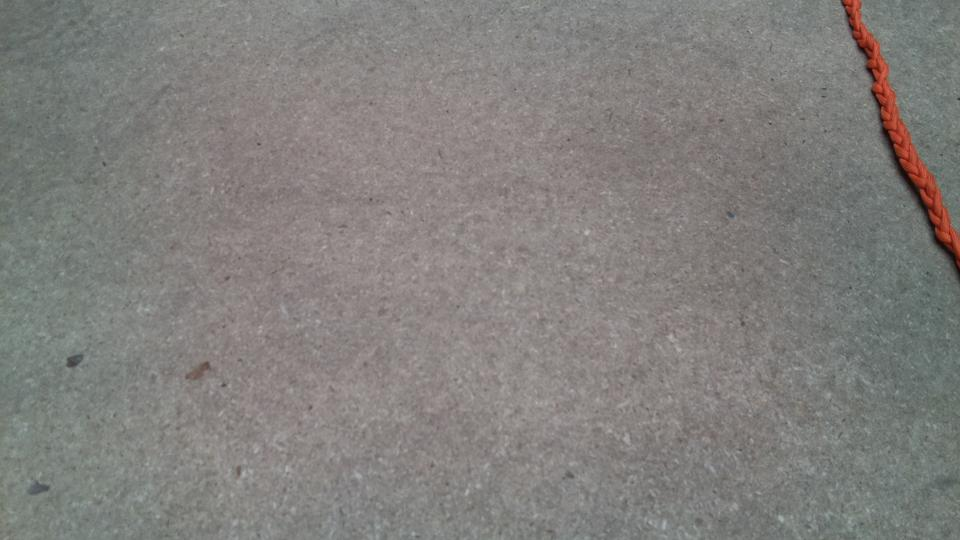rope: (835, 1, 960, 274)
